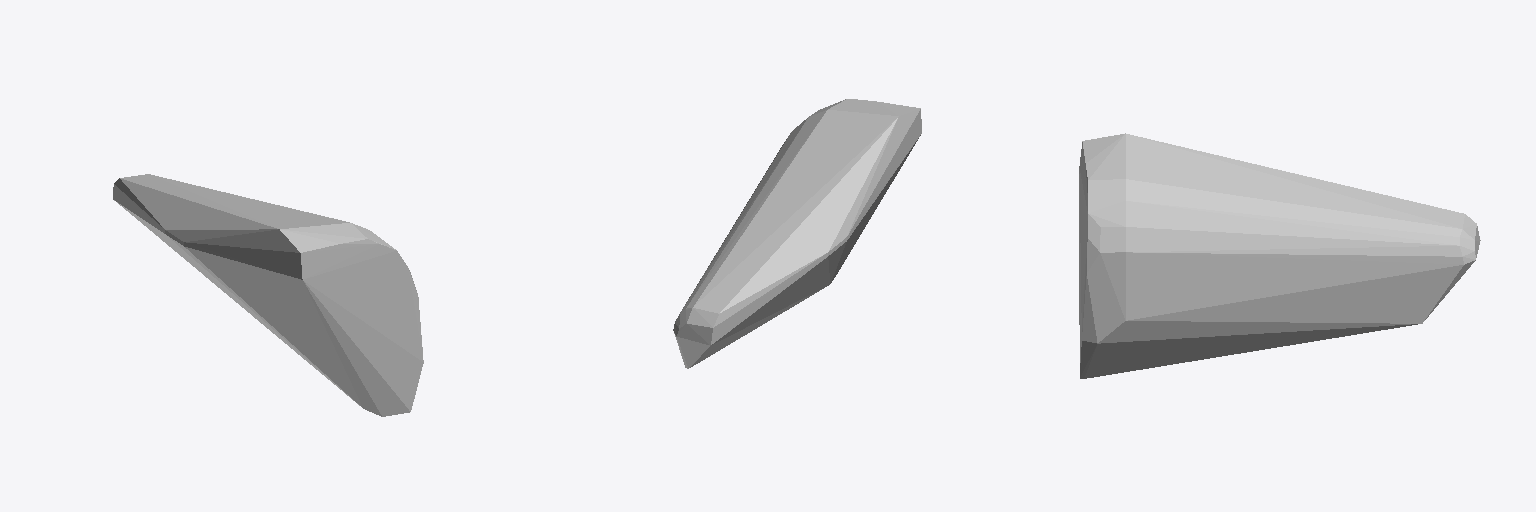
Rendered from ToteA.L004.obj.
3 renders of one model, left to right at view 1: azimuth 30°, elevation 25°; view 2: azimuth 150°, elevation 25°; view 3: azimuth 270°, elevation 25°, orthographic.
Bounding box in the file's own units: 0.0749 × 0.0913 × 0.1724.